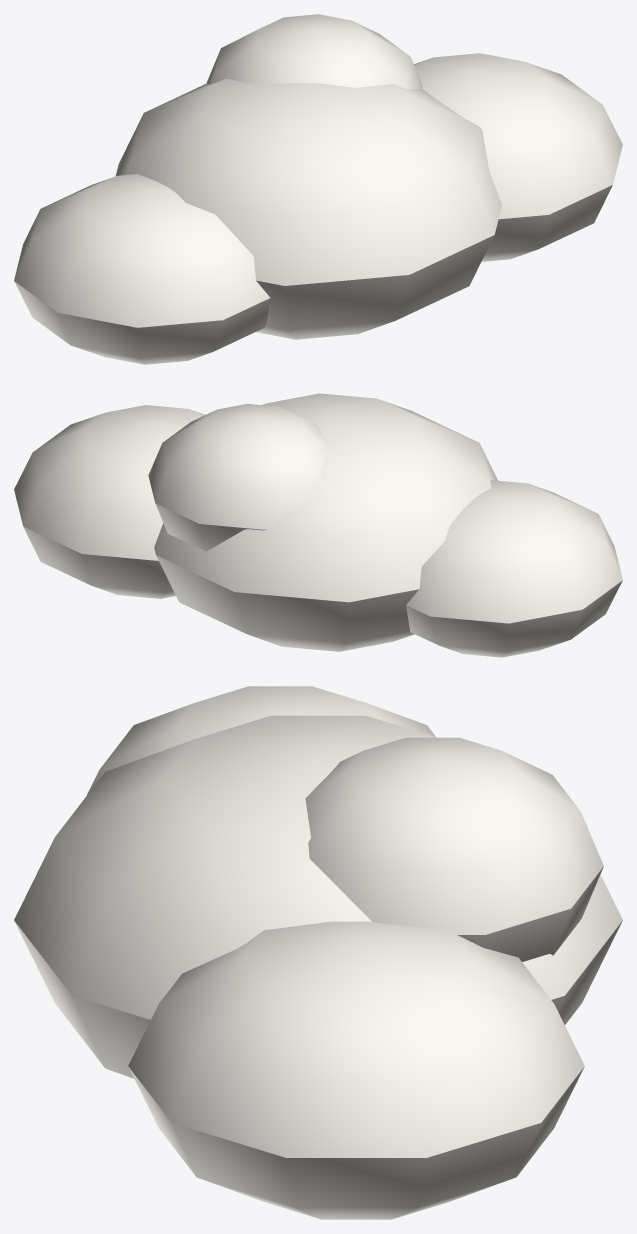
Rendered from m_cloud.gltf.
3 views of the same model, one above another, from view 1: azimuth 30°, elevation 25°; view 2: azimuth 150°, elevation 25°; view 3: azimuth 270°, elevation 25° (orthographic). The views are drawn at different scales.
Parts seen in each view (by area): view 1: m_cloud; view 2: m_cloud; view 3: m_cloud.
Part boxes in pixels (bbox=[...]): m_cloud: bbox=[14, 14, 622, 364]; m_cloud: bbox=[14, 393, 622, 657]; m_cloud: bbox=[14, 686, 622, 1219].
Size of the model in its own units: 2.64 by 1.05 by 1.6.
1 material, 1 textured.
